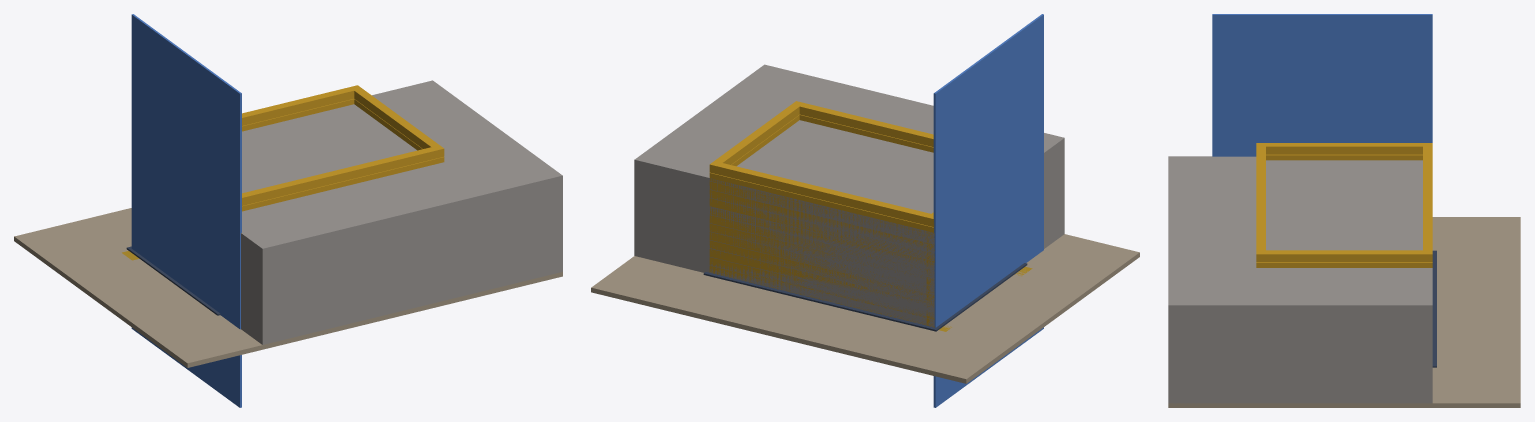
Rendered from stage_04_walls.glb.
The picture shows the model from 3 angles, left to right: view 1: azimuth 30°, elevation 25°; view 2: azimuth 150°, elevation 25°; view 3: azimuth 270°, elevation 25°; orthographic projection.
Visible parts, largest first — view 1: world; view 2: world; view 3: world.
Part boxes in pixels (left/top/right/bottom): world: left=14, top=14, right=562, bottom=407; world: left=591, top=14, right=1139, bottom=407; world: left=1168, top=14, right=1520, bottom=407.
Size of the model in its own units: 10 by 8 by 8.
